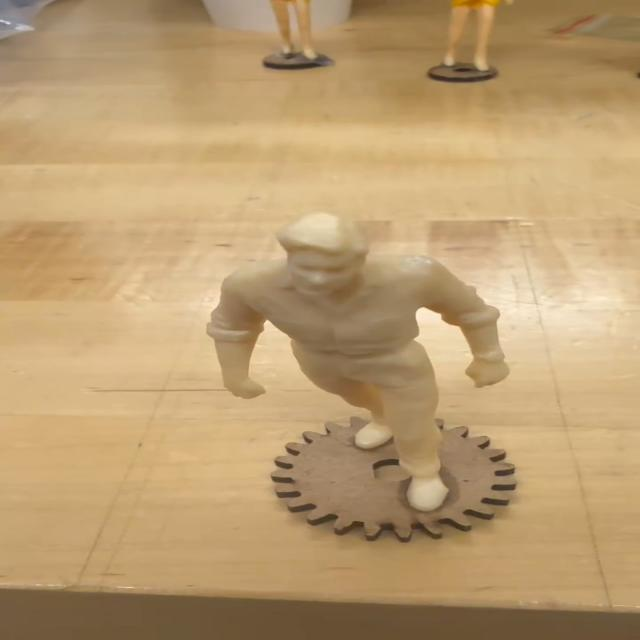Unauthorized: (178, 195, 534, 521)
